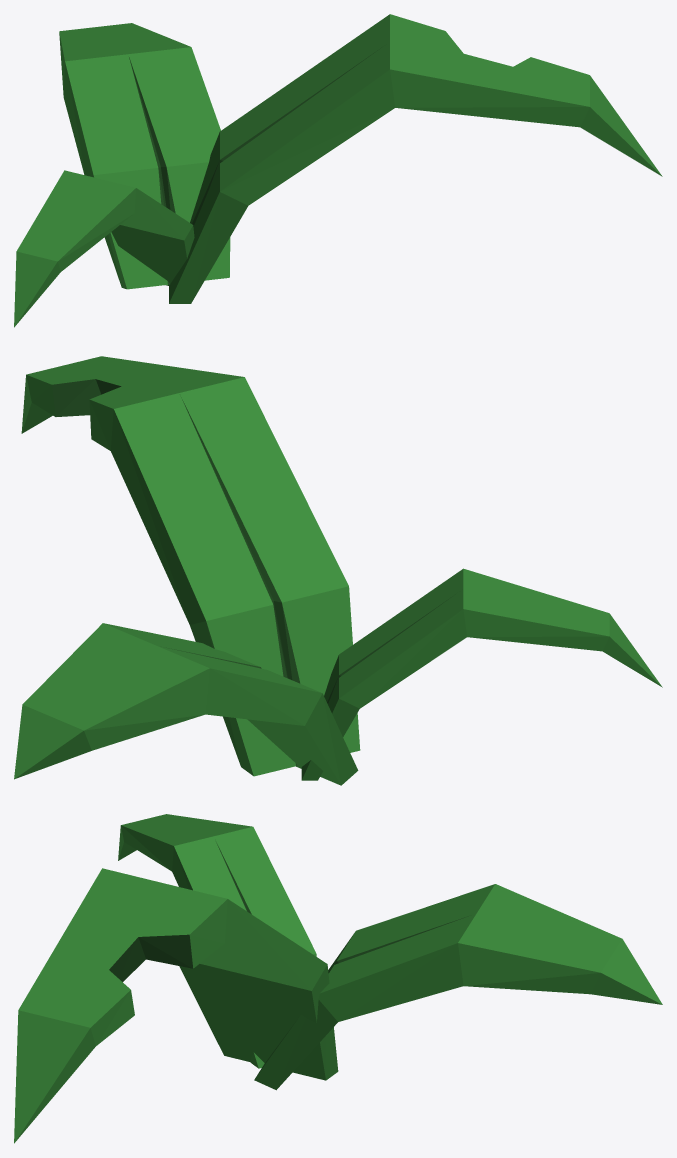
Rendered from Plant_A_03.FBX.
3 renders of one model, top to bottom at view 1: azimuth 30°, elevation 25°; view 2: azimuth 150°, elevation 25°; view 3: azimuth 270°, elevation 25°, orthographic. The views are drawn at different scales.
Visible parts, largest first — view 1: Plant_A_03; view 2: Plant_A_03; view 3: Plant_A_03.
Part boxes in pixels (x1,y1,x2,y2): Plant_A_03: (14,14,662,327); Plant_A_03: (14,356,662,785); Plant_A_03: (14,814,662,1143).
Size of the model in its own units: 1.76 by 0.6775 by 1.48.
